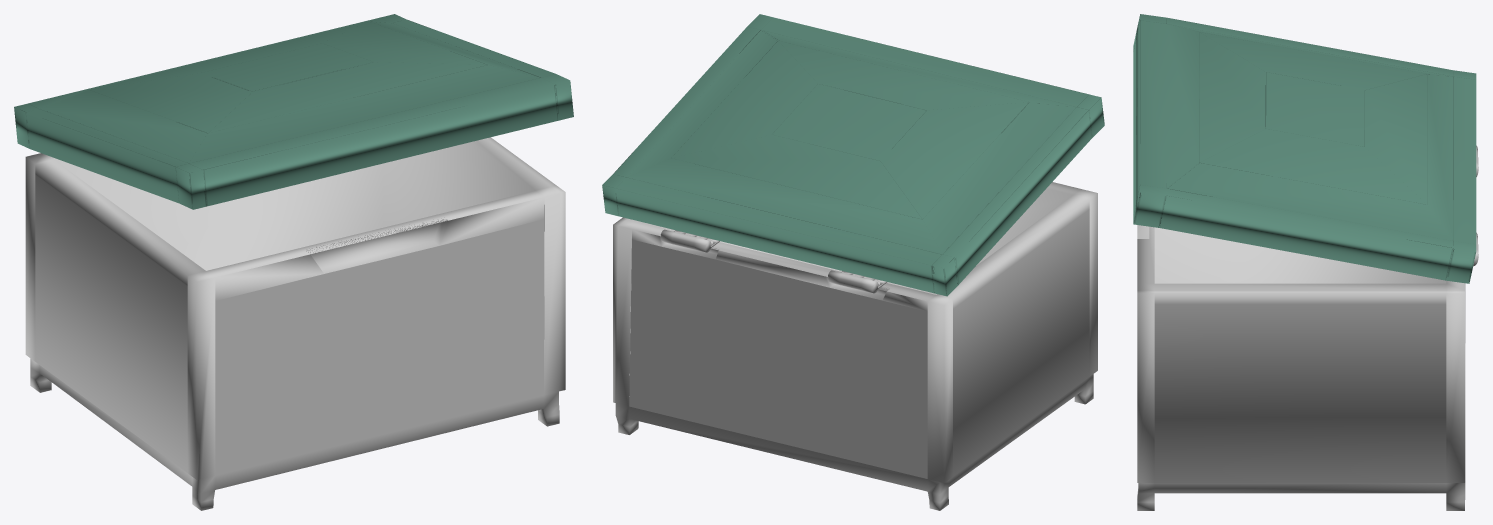
File: AnimateToysBox.fbx
3 views of the same model, side by side, from view 1: azimuth 30°, elevation 25°; view 2: azimuth 150°, elevation 25°; view 3: azimuth 270°, elevation 25° (orthographic). The views are drawn at different scales.
Visible parts, largest first — view 1: ToysBox, ToysBoxCover; view 2: ToysBox, ToysBoxCover; view 3: ToysBox, ToysBoxCover.
Part boxes in pixels (bbox=[...]): ToysBox: bbox=[25, 137, 565, 510]; ToysBoxCover: bbox=[14, 14, 573, 209]; ToysBox: bbox=[613, 182, 1097, 510]; ToysBoxCover: bbox=[602, 14, 1104, 296]; ToysBox: bbox=[1137, 145, 1478, 510]; ToysBoxCover: bbox=[1133, 14, 1476, 283].
Bounding box in the file's own units: 279 × 241 × 229.
